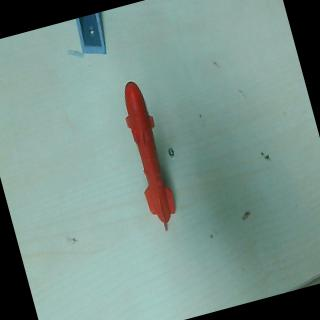Rocket: (113, 75, 180, 234)
